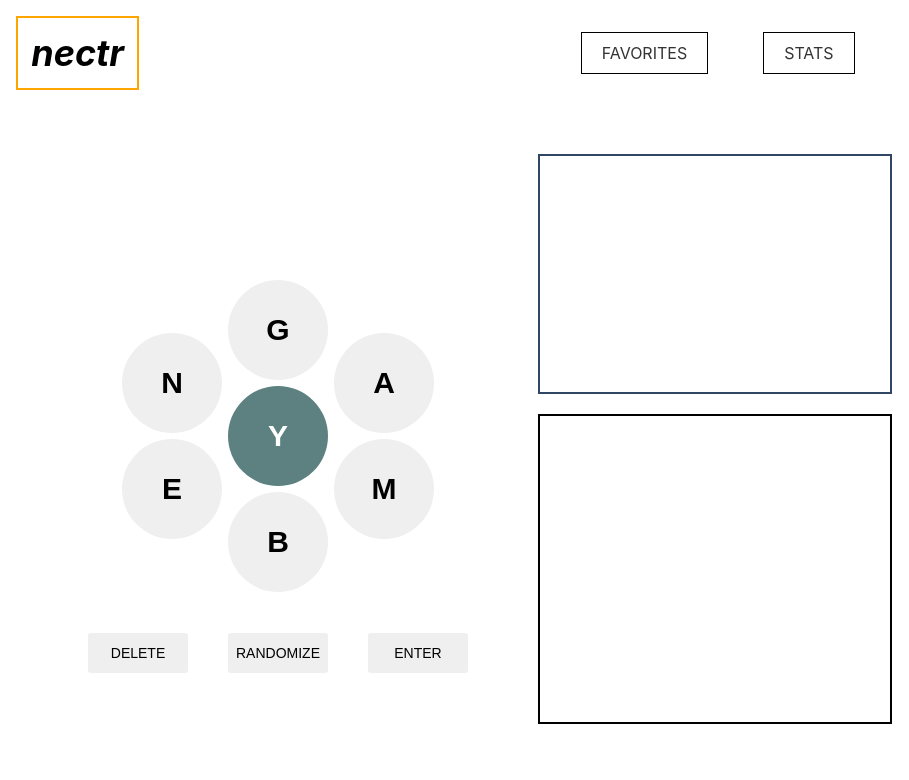
it: Stats Page › should be able to see stats on the current game
Click the button "B".
click(278, 542)  # box [228,492,328,592]
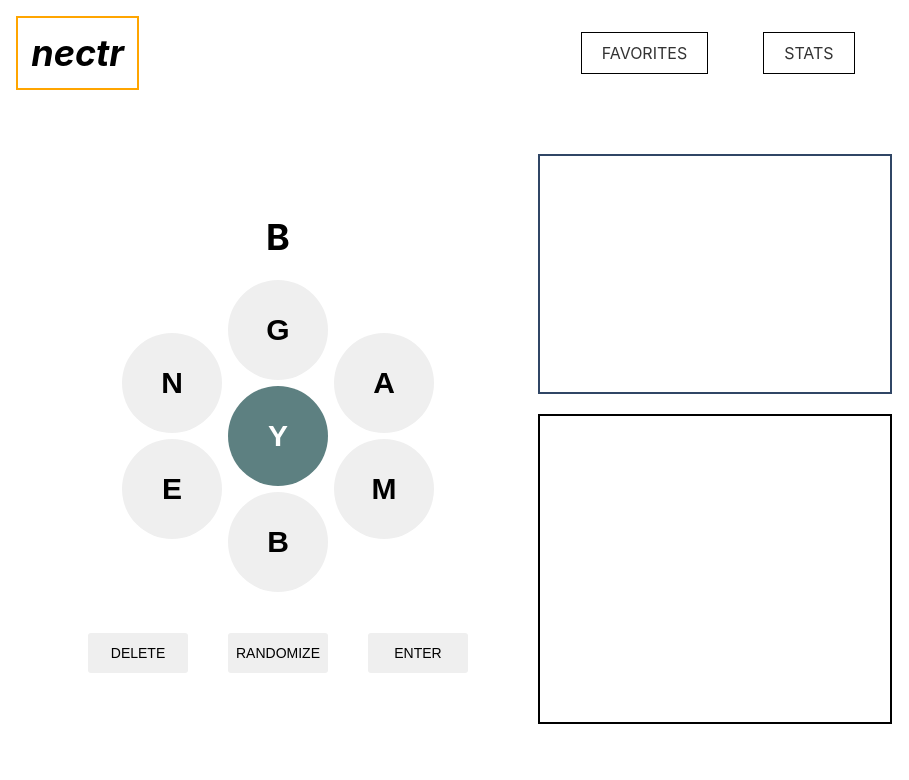
Click the button "A".
click(384, 383)  # box [334,333,434,433]
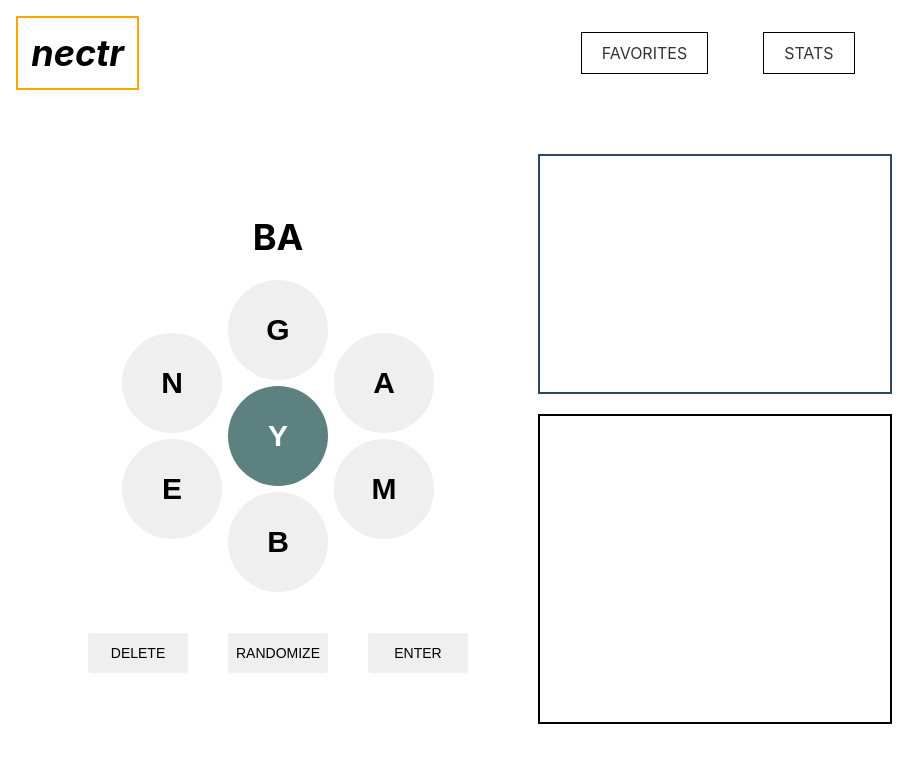
Click the button "B".
click(278, 542)  # box [228,492,328,592]
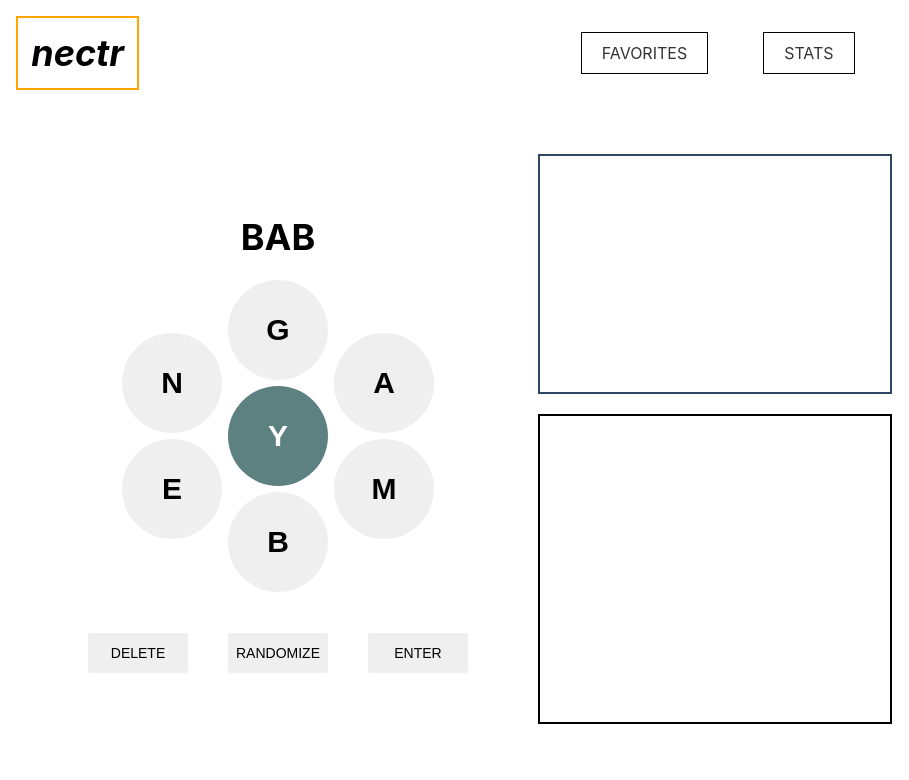
Click the button "Y".
click(278, 436)  # box [228,386,328,486]
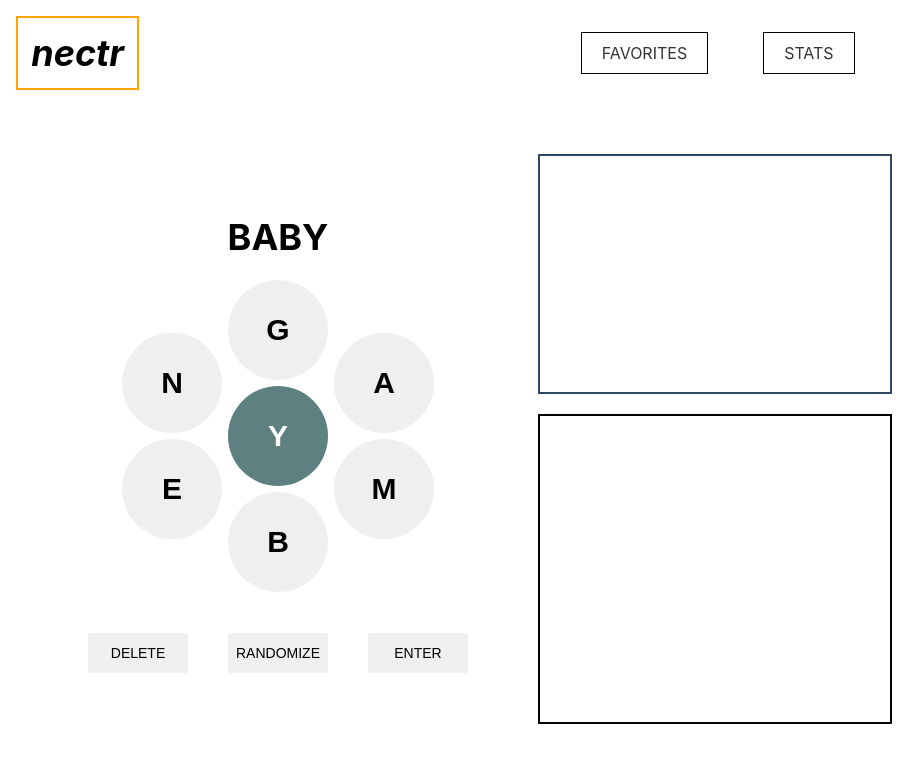
Click the button with class "game-play-button" showing "ENTER".
click(418, 653)  # box [368,633,468,673]
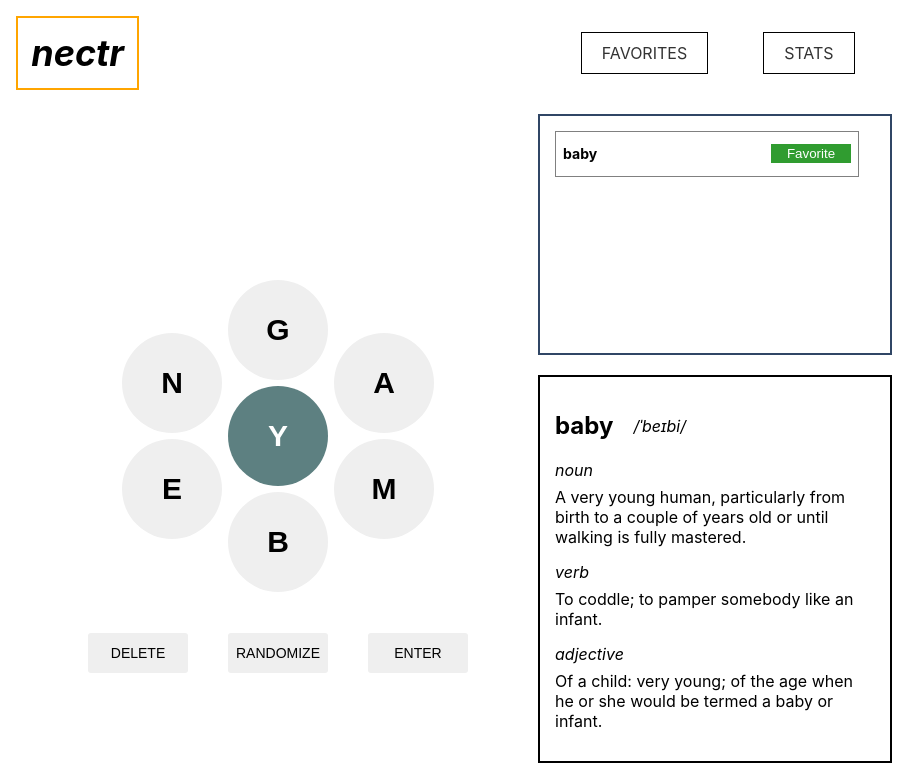
Click the link with class "nav-link" showing "STATS".
click(809, 53)  # box [763,32,854,74]
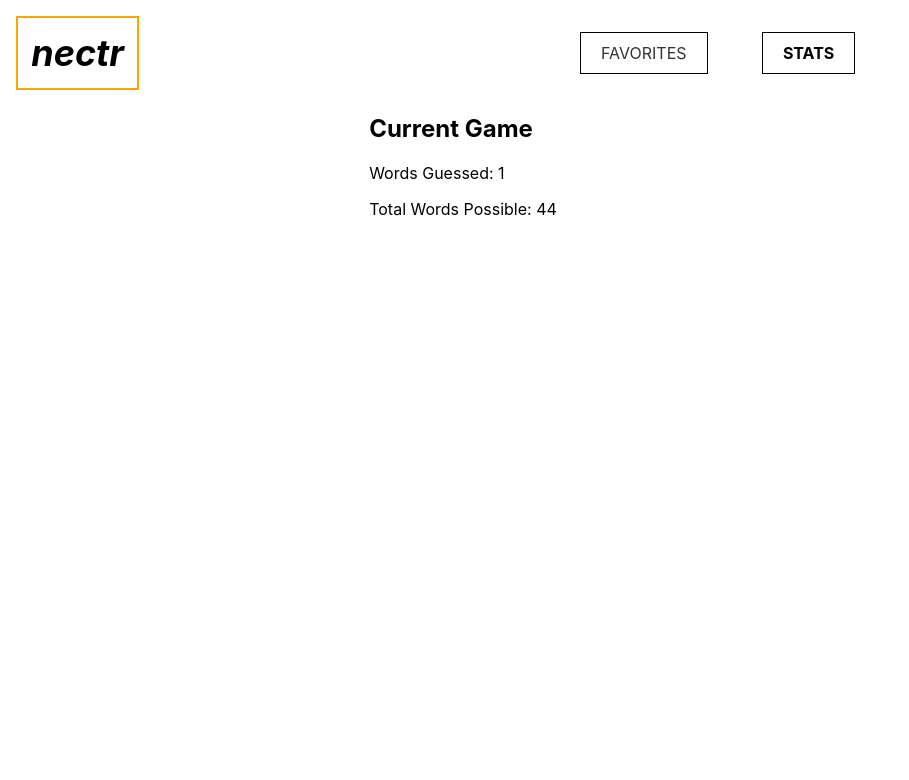
Result: the text "Words Guessed: 1" is shown at [369,163,505,183]
Result: the text "Total Words Possible: 44" is shown at [369,199,557,219]
